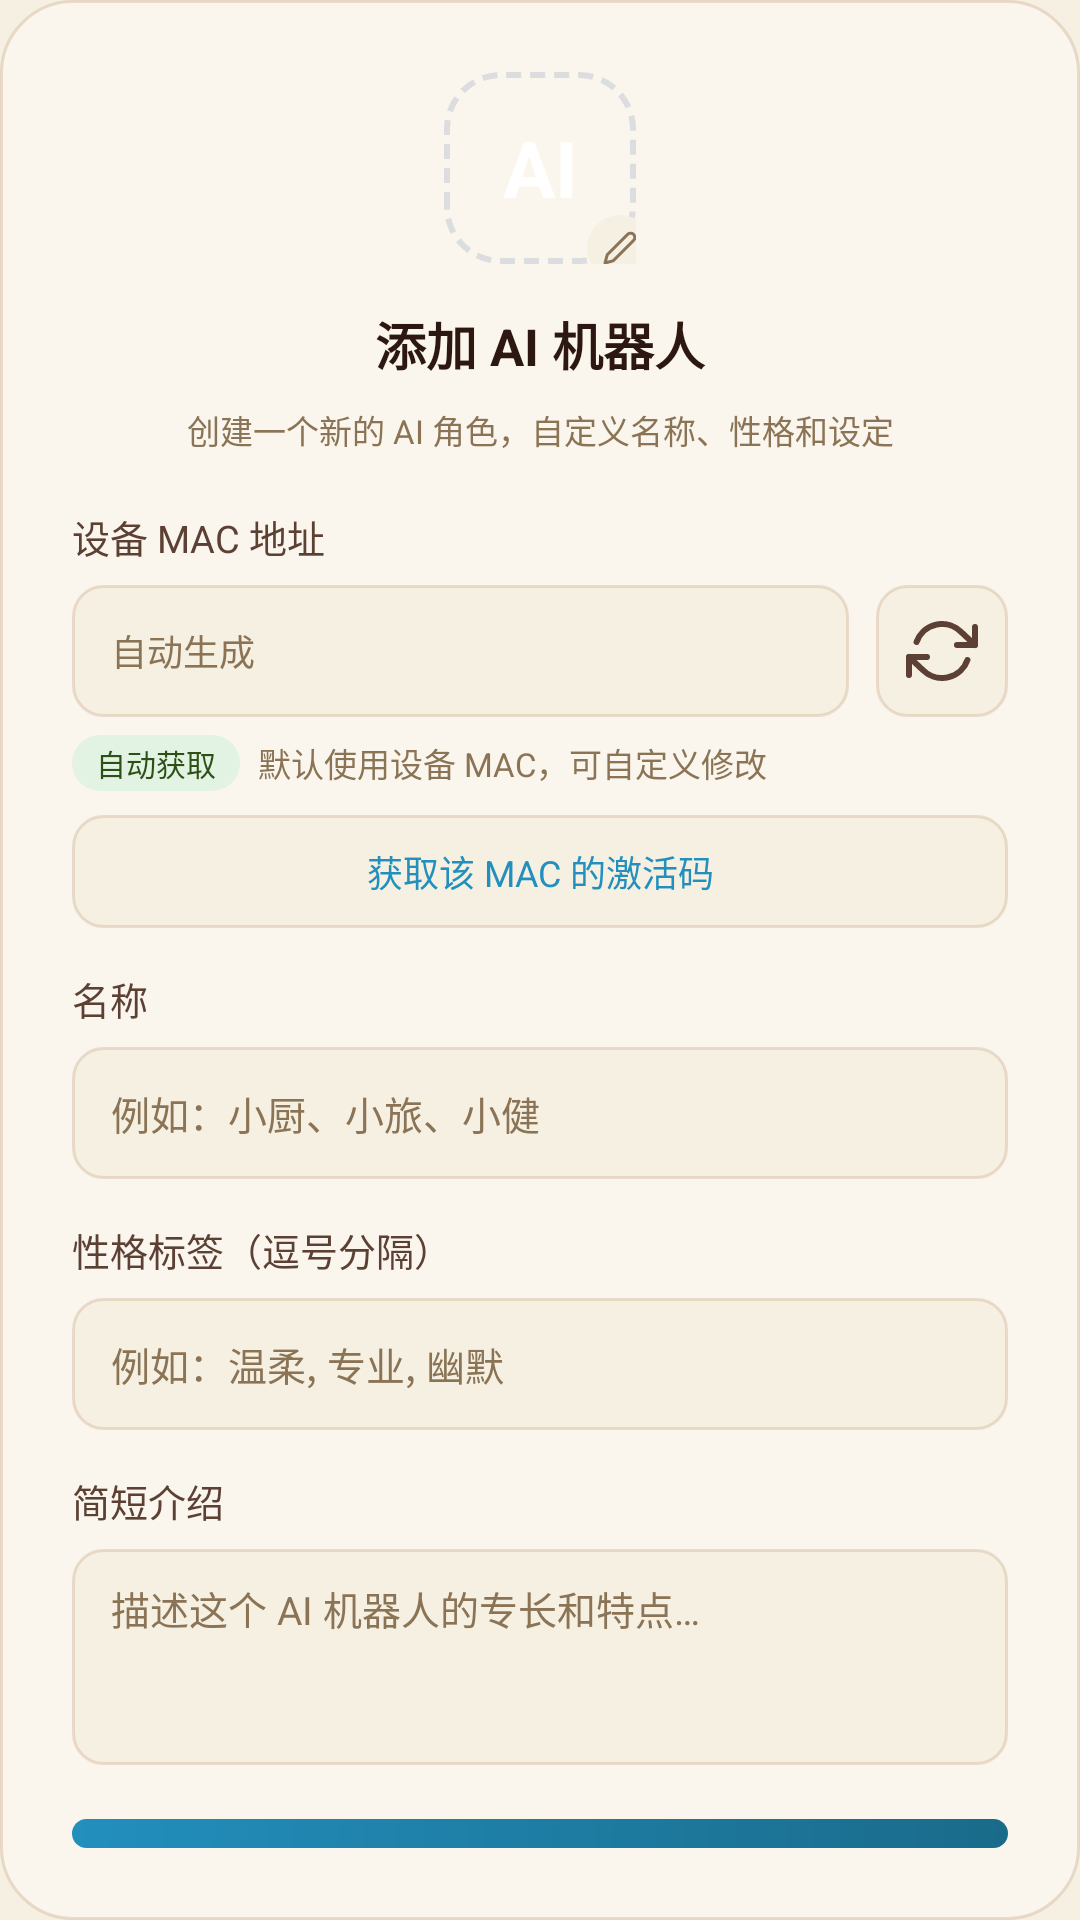

Icon bounding boxes for this 1080 × 1920 phone screenshot, format (x1, y1, x2, y2):
重新生成 MAC 地址: (876, 585, 1008, 717)
